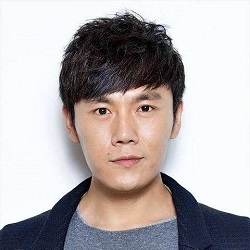unmask: (73, 83, 173, 190)
